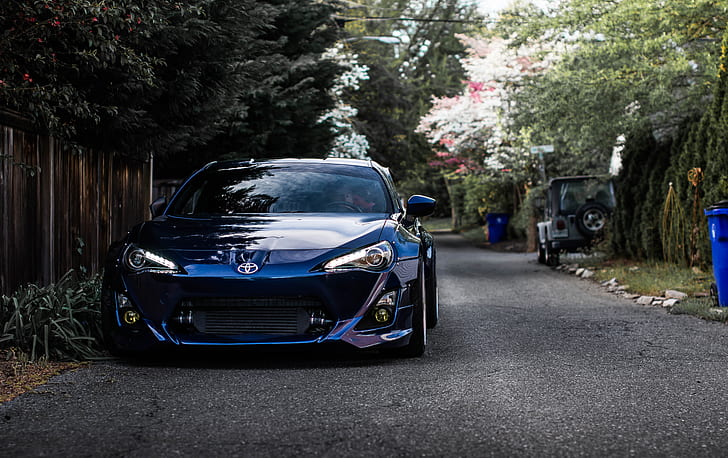car: (112, 136, 436, 366), (528, 176, 631, 261)
